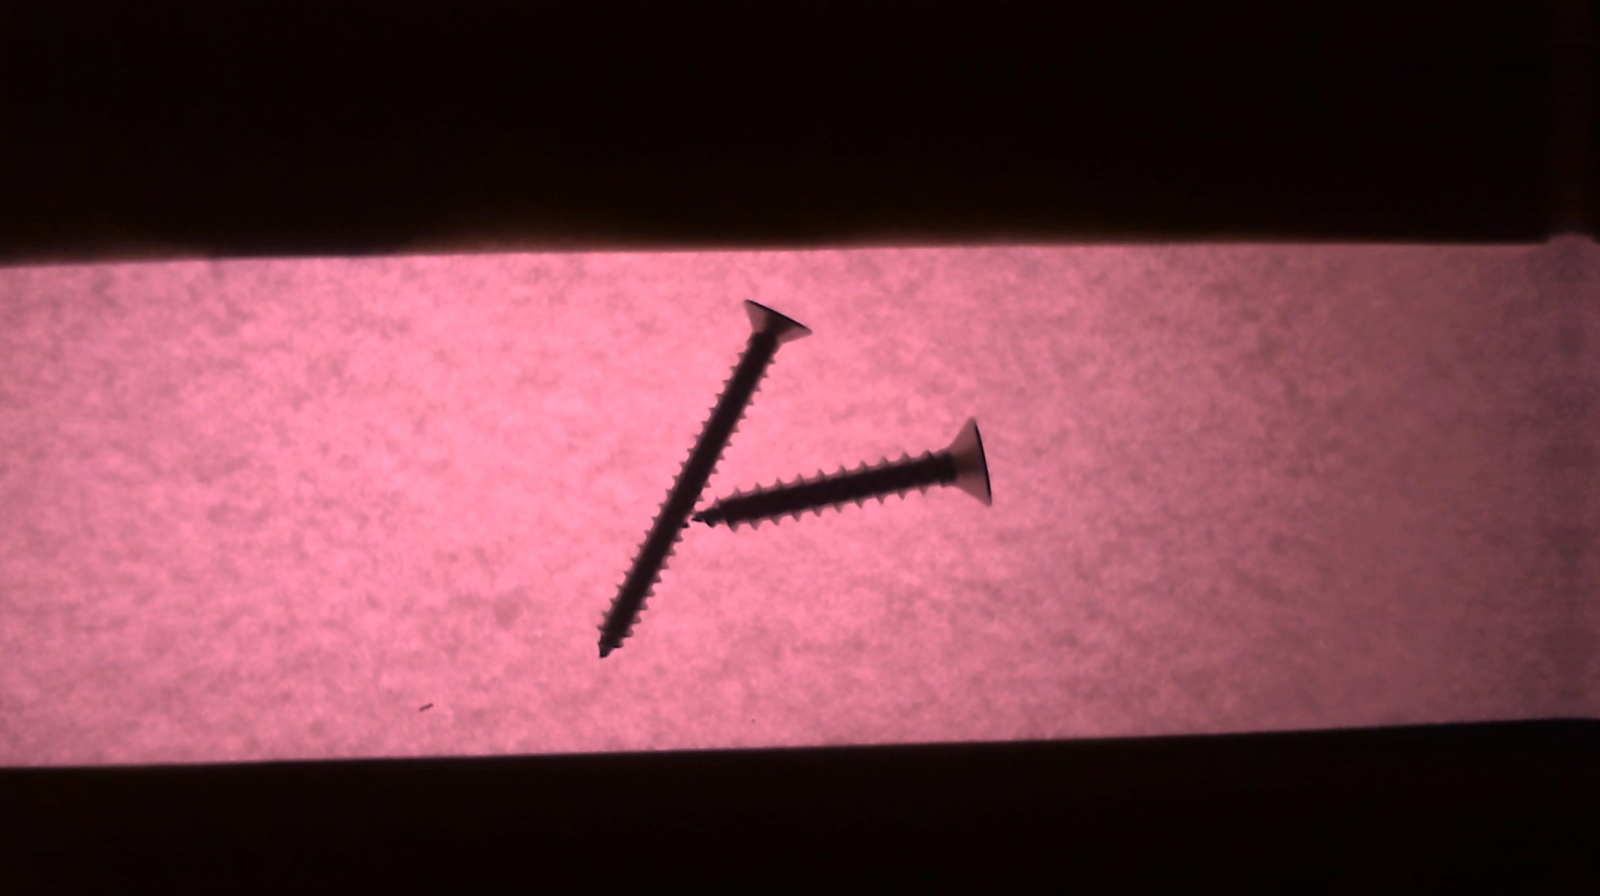S001: (675, 414, 1010, 528)
S002: (591, 292, 822, 663)
